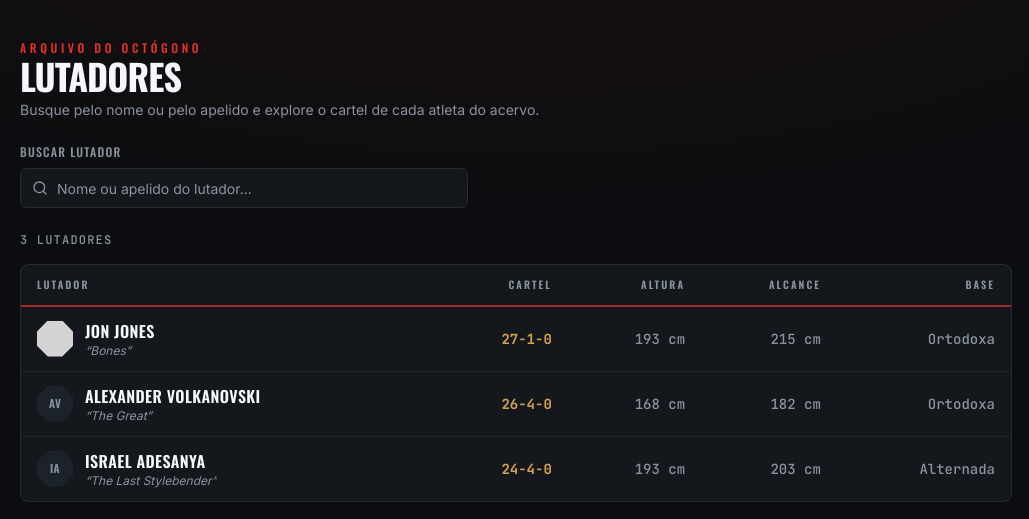
FightersPage › encontra o lutador buscando pelo apelido
Expected: the link "Jon Jones" is shown, [85,319,155,343]
Step 1. Type "bones" into the search field labelled "Buscar lutador" → (244, 188), box [20,168,468,208]
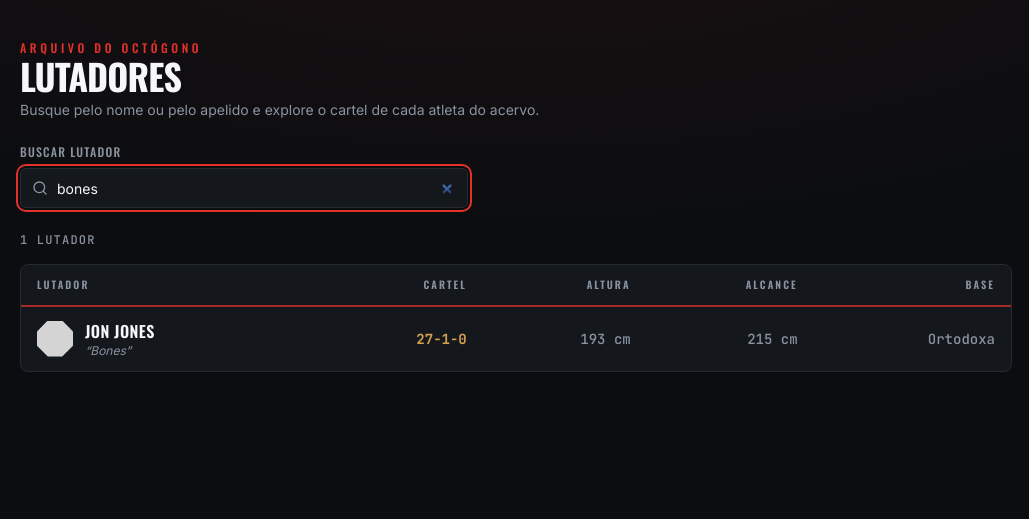
Expected: the link "Jon Jones" is shown, [85,319,155,343]
Expected: the link "Alexander Volkanovski" is gone
